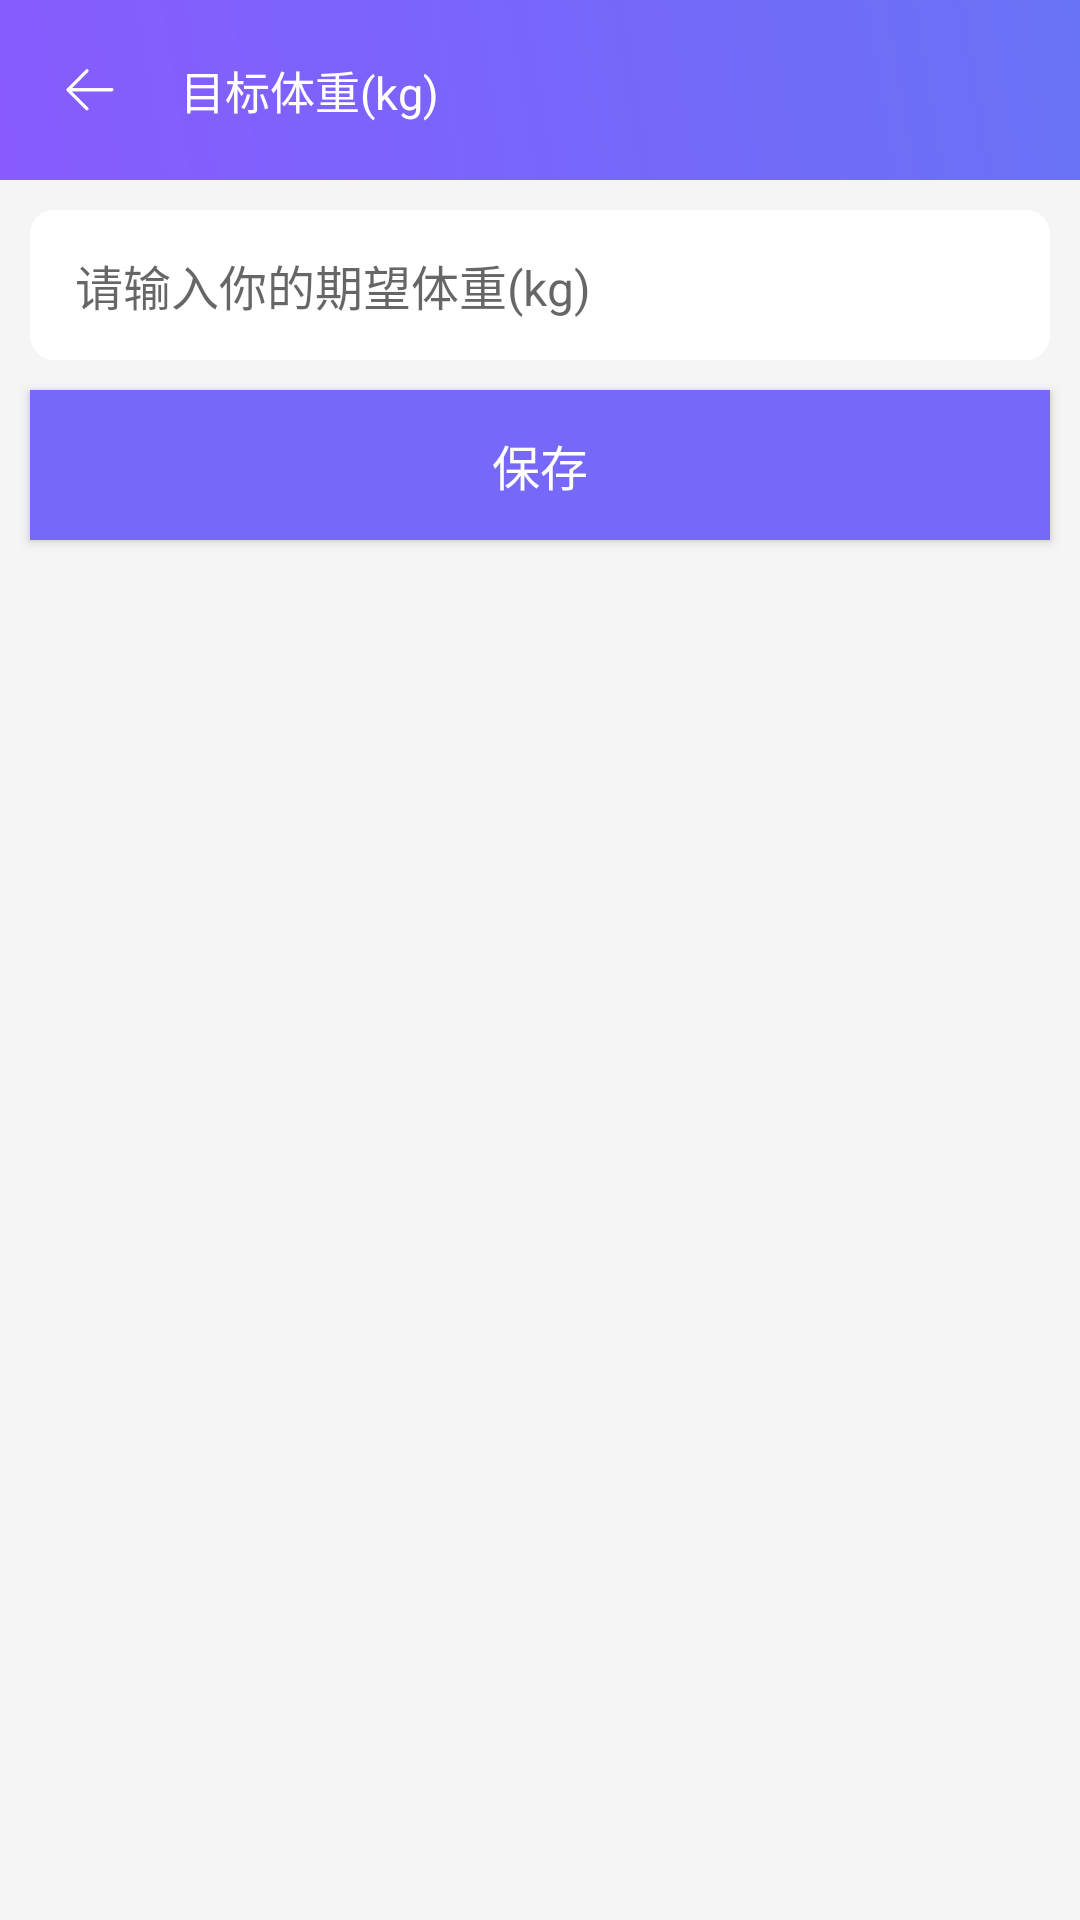

Icon click points for this 1080 x 1920 phone screenshot, format [x,y]:
back: [90,90]
